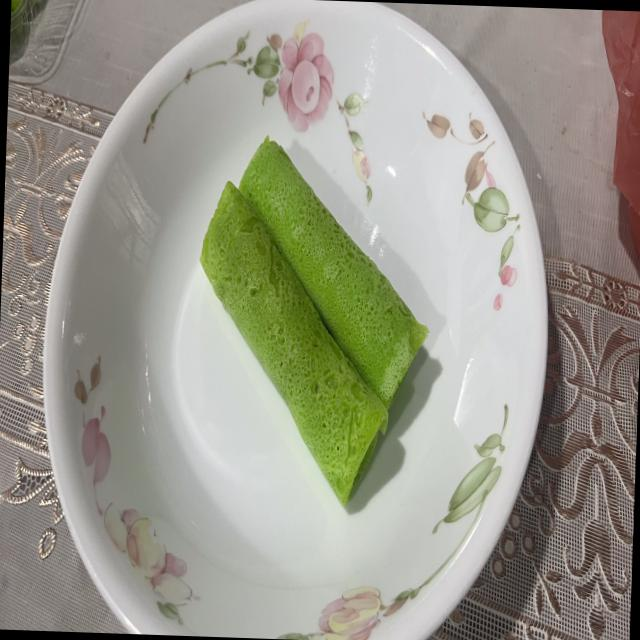Kuih-Ketayap: (201, 181, 387, 503), (240, 136, 428, 407)
